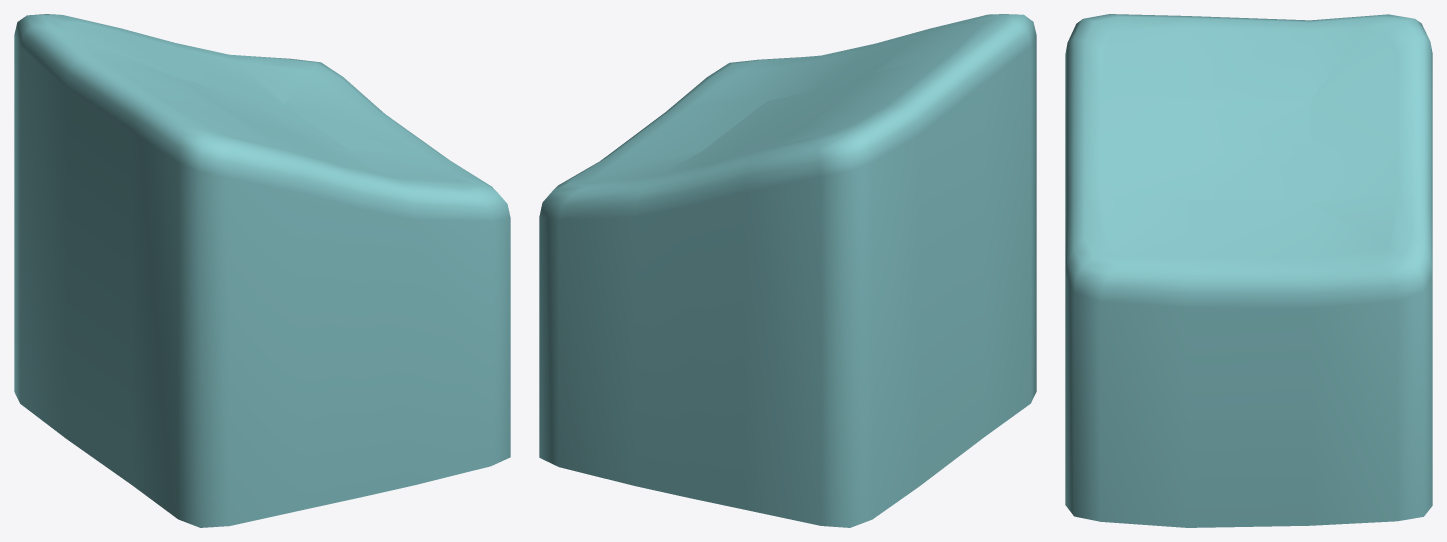
File: sm_Wall03.fbx
3 renders of one model, left to right at view 1: azimuth 30°, elevation 25°; view 2: azimuth 150°, elevation 25°; view 3: azimuth 270°, elevation 25°, orthographic. The views are drawn at different scales.
Parts seen in each view (by area): view 1: Box007; view 2: Box007; view 3: Box007.
Boxes of the visible parts, left/top/right/bottom form: Box007: left=14, top=14, right=510, bottom=527; Box007: left=539, top=14, right=1036, bottom=527; Box007: left=1065, top=14, right=1432, bottom=527.
Bounding box in the file's own units: 541 × 623 × 561.
